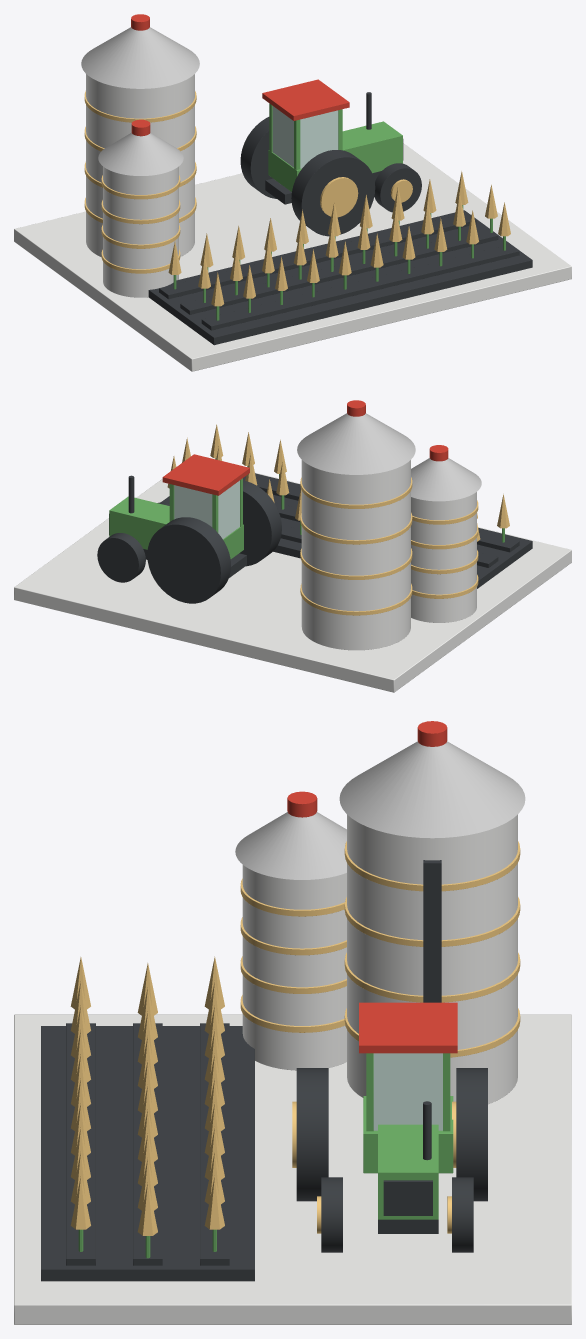
The model's file is agro.glb.
3 views of the same model, one above another, from view 1: azimuth 30°, elevation 25°; view 2: azimuth 150°, elevation 25°; view 3: azimuth 270°, elevation 25° (orthographic). The views are drawn at different scales.
Parts seen in each view (by area): view 1: plaza.004, soil, silo0, silo1, silo0_roof, furrow0, tr_rear-1, furrow1, furrow2, silo1_roof, tr_cab, tr_roof (+7 smaller); view 2: plaza.004, silo0, silo1, tr_rear1, silo0_roof, tr_rear-1, silo1_roof, tr_roof, tr_cab, soil, tr_hood, tr_front1 (+7 smaller); view 3: plaza.004, soil, silo0, silo1, silo0_roof, silo1_roof, tr_roof, tr_cab, tr_rear-1, furrow0, furrow2, furrow1 (+15 smaller).
Boxes of the visible parts, bbox=[...] form: plaza.004: bbox=[14, 143, 571, 371]; soil: bbox=[148, 210, 532, 345]; silo0: bbox=[86, 74, 194, 257]; silo1: bbox=[103, 166, 178, 297]; silo0_roof: bbox=[81, 27, 199, 88]; furrow0: bbox=[201, 244, 519, 330]; tr_rear-1: bbox=[291, 150, 375, 236]; furrow1: bbox=[180, 228, 498, 314]; furrow2: bbox=[159, 213, 476, 299]; silo1_roof: bbox=[98, 133, 183, 175]; tr_cab: bbox=[272, 106, 338, 168]; tr_roof: bbox=[262, 79, 349, 120]; plaza.004: bbox=[14, 472, 571, 692]; silo0: bbox=[301, 460, 410, 650]; silo1: bbox=[411, 492, 476, 622]; tr_rear1: bbox=[147, 517, 230, 603]; silo0_roof: bbox=[297, 413, 415, 474]; tr_rear-1: bbox=[239, 480, 281, 566]; silo1_roof: bbox=[411, 458, 481, 501]; tr_roof: bbox=[162, 454, 249, 495]; tr_cab: bbox=[174, 480, 239, 538]; soil: bbox=[161, 473, 532, 588]; tr_hood: bbox=[109, 496, 169, 549]; tr_front1: bbox=[97, 533, 145, 582]; plaza.004: bbox=[14, 1014, 571, 1324]; soil: bbox=[41, 1026, 254, 1281]; silo0: bbox=[347, 814, 517, 1104]; silo1: bbox=[242, 865, 346, 1070]; silo0_roof: bbox=[339, 741, 525, 838]; silo1_roof: bbox=[235, 812, 346, 879]; tr_roof: bbox=[359, 1002, 457, 1053]; tr_cab: bbox=[373, 1053, 442, 1130]; tr_rear-1: bbox=[296, 1068, 328, 1201]; furrow0: bbox=[66, 1023, 95, 1265]; furrow2: bbox=[200, 1023, 229, 1265]; furrow1: bbox=[133, 1023, 162, 1265].
Bounding box in the file's own units: 3.7 × 2.2 × 3.
